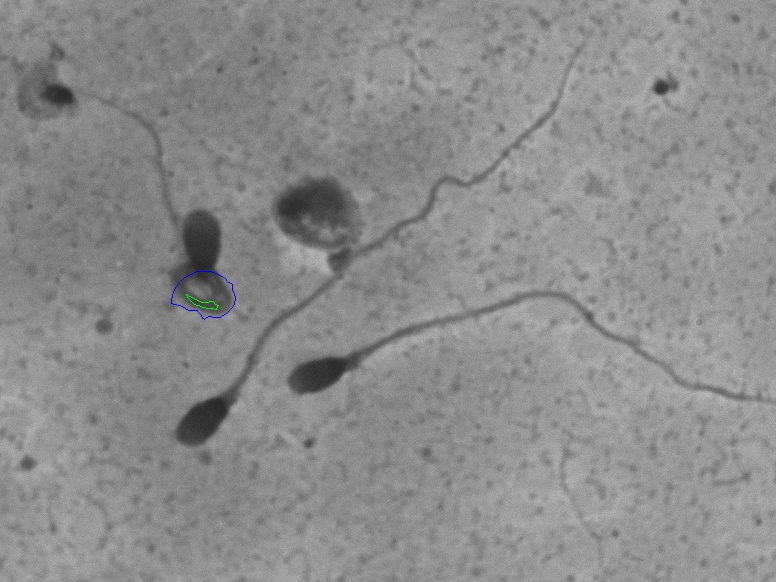Abnormal: (81, 70, 243, 326)
Normal: (159, 22, 610, 463), (277, 265, 769, 417)
